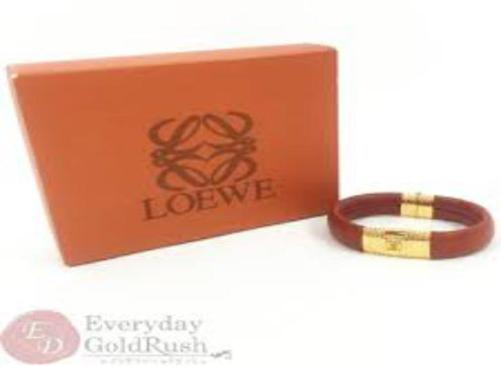LOEWE: (108, 91, 292, 225)
